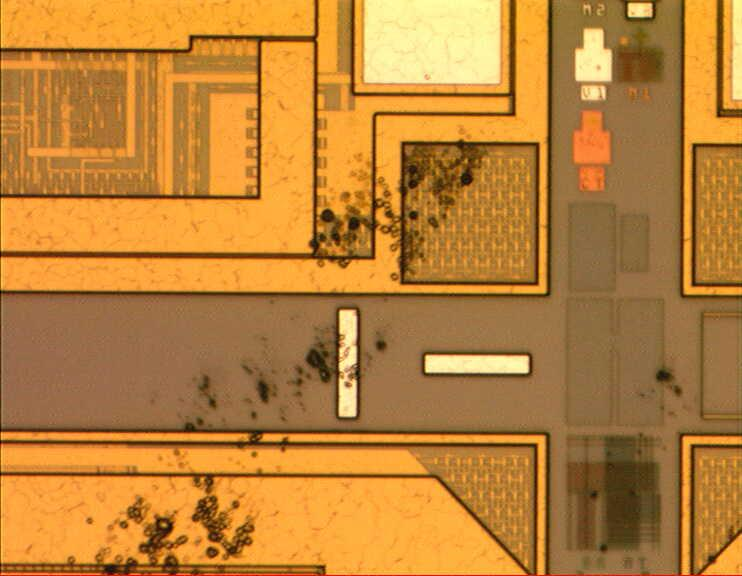PO CONTAMINATION: (57, 120, 711, 576)
